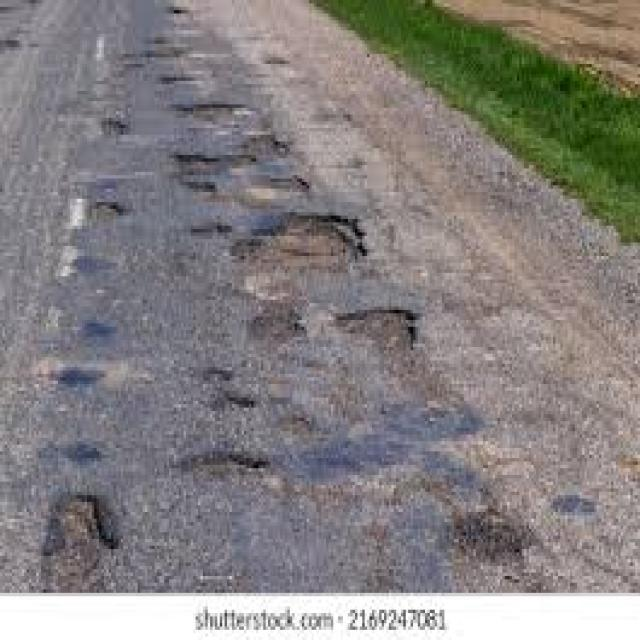Pothole: (234, 216, 394, 269)
